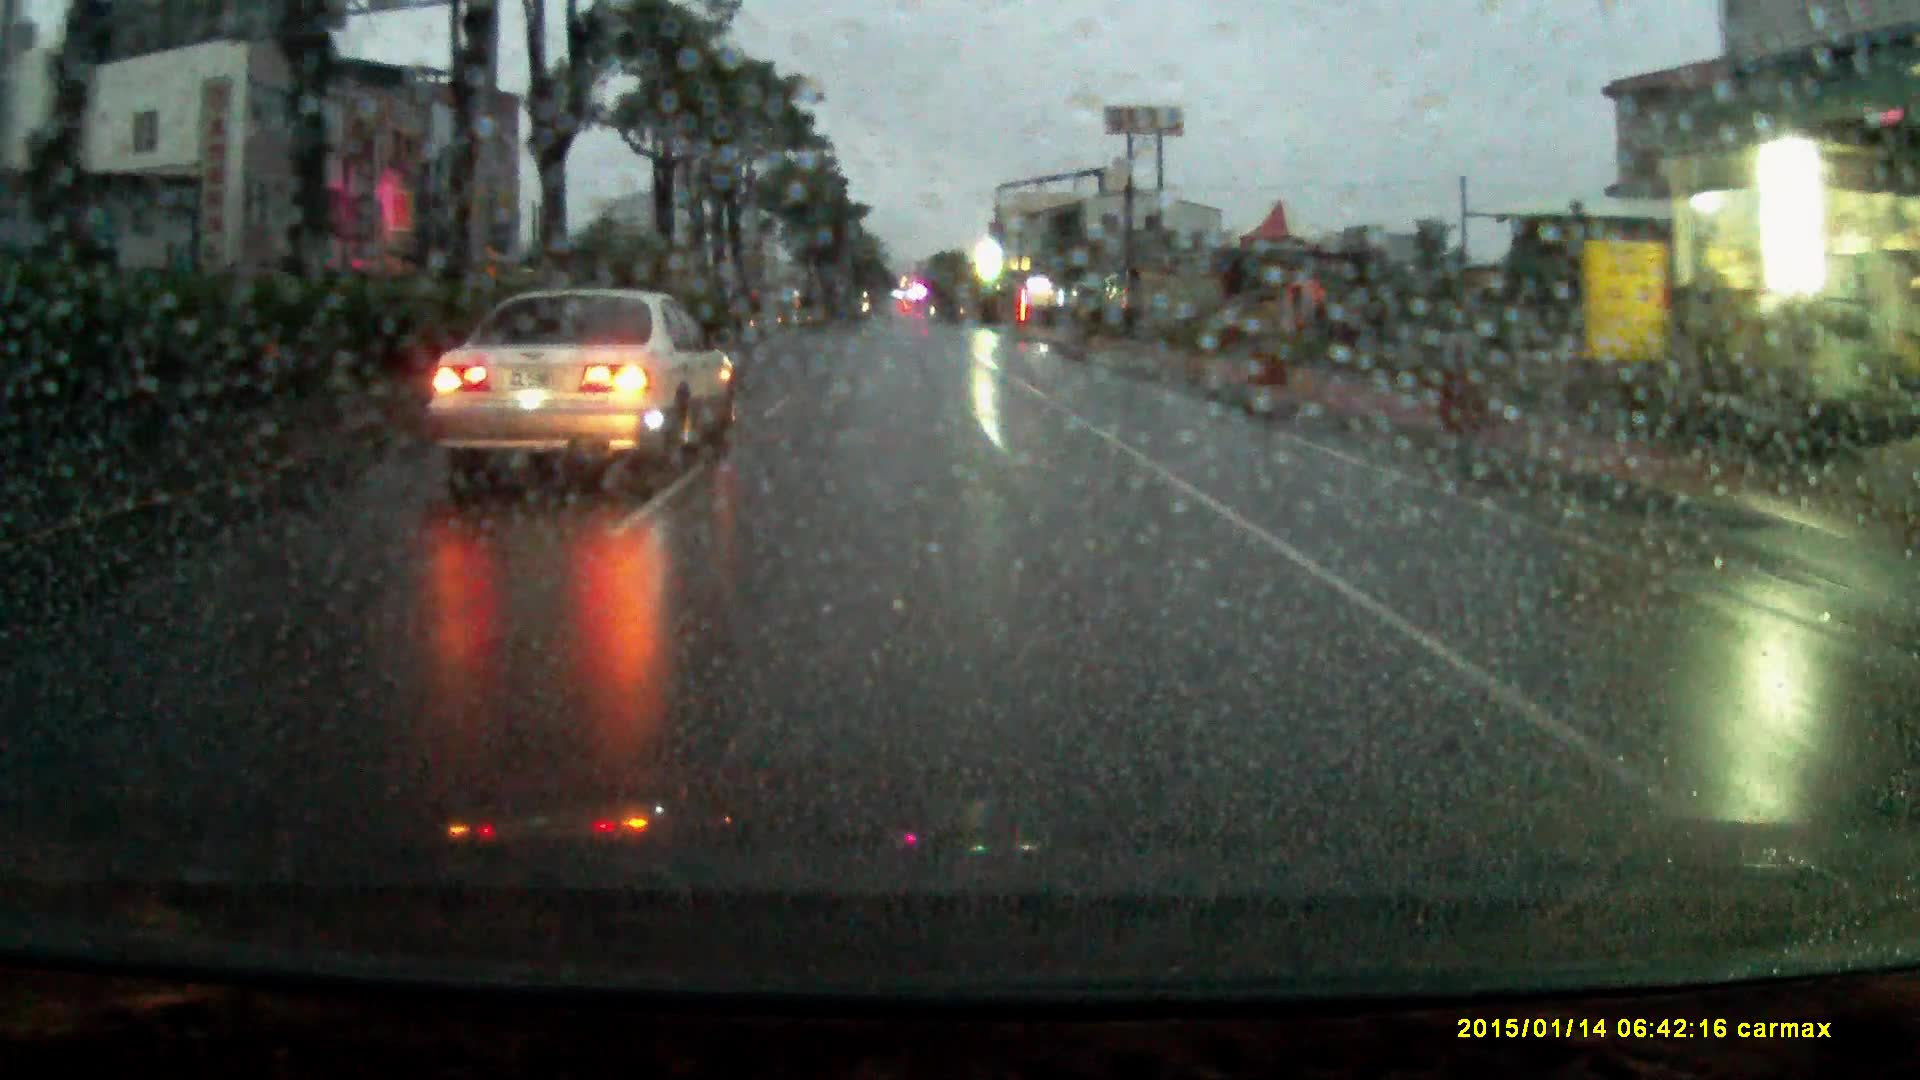vehicle: (431, 287, 750, 497)
